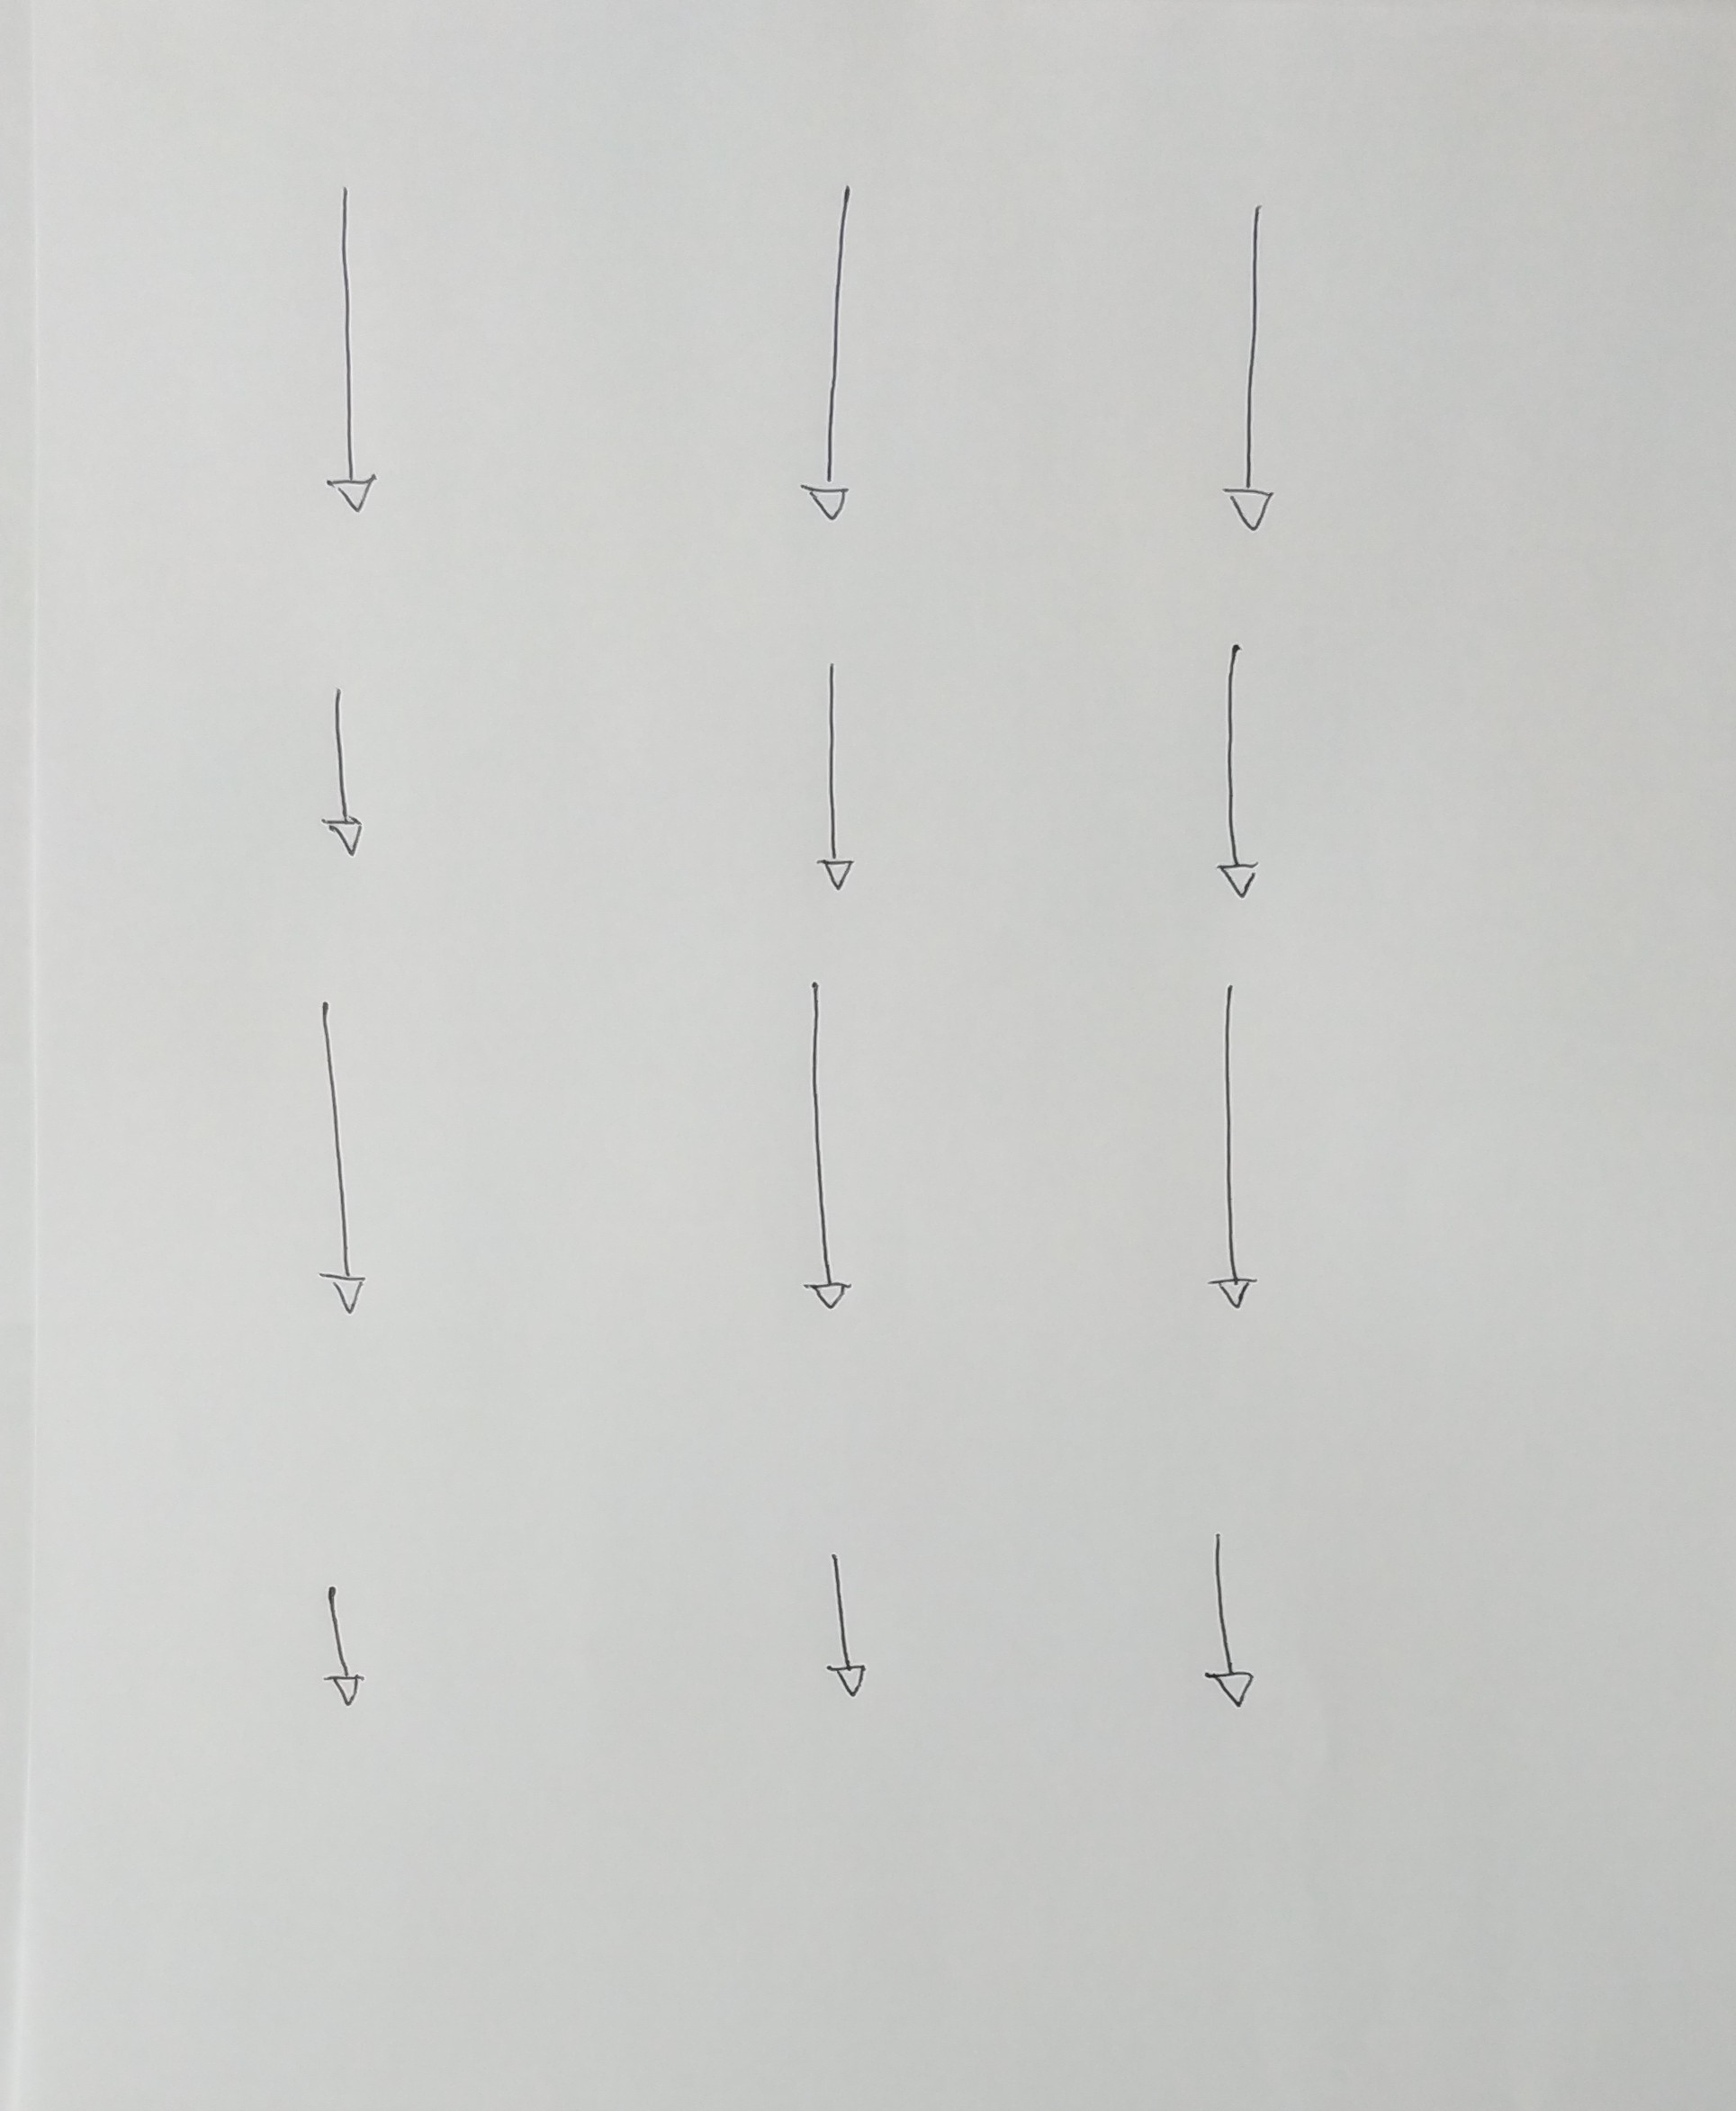arrow_line_down: (289, 991, 381, 1318), (309, 182, 393, 530), (796, 175, 866, 528), (1219, 196, 1285, 542), (789, 968, 856, 1311), (1203, 980, 1263, 1311), (1205, 629, 1261, 903), (1189, 1525, 1263, 1713), (803, 654, 859, 899), (312, 679, 372, 866), (810, 1545, 875, 1699), (310, 1580, 366, 1709)
